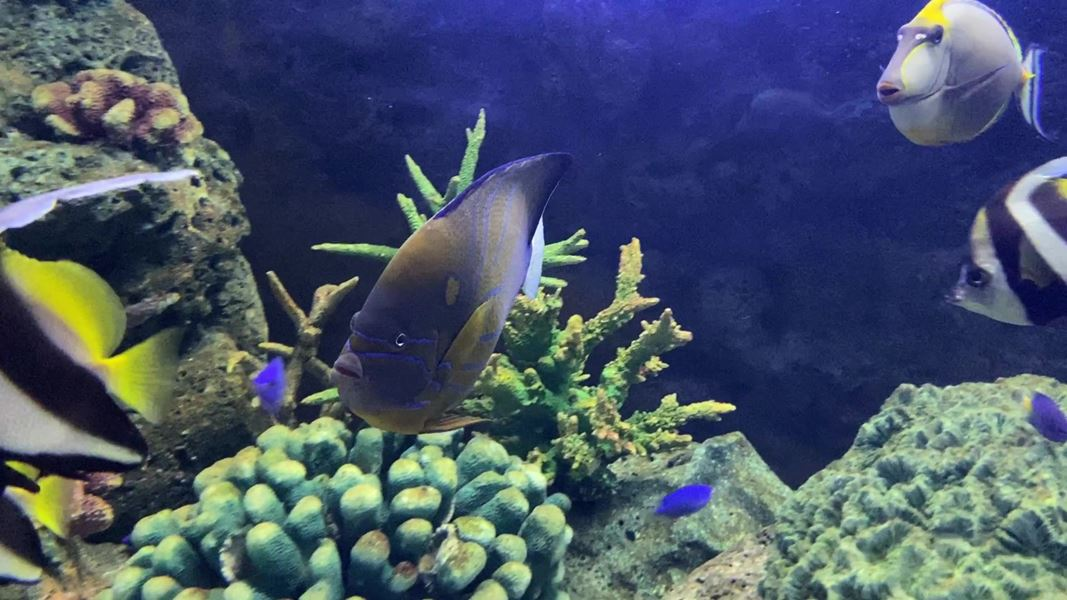Blue ring angelfish: (330, 142, 609, 461)
